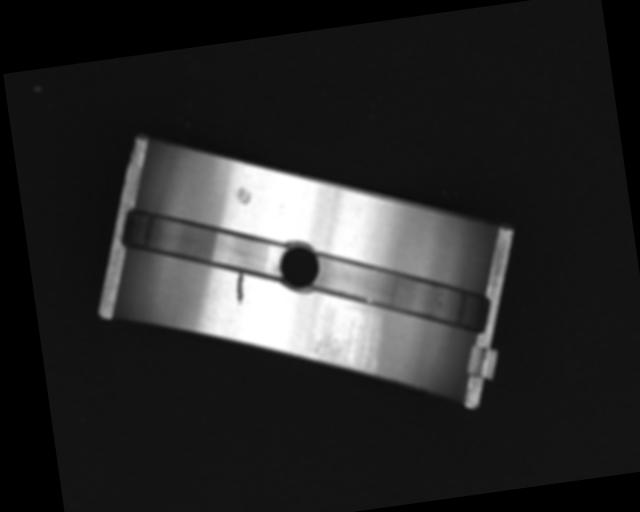bruise: (234, 185, 254, 207)
gap: (310, 234, 488, 348), (119, 192, 286, 291)
hole: (274, 242, 322, 290)
nick: (232, 270, 248, 308)
scratch: (310, 308, 384, 391)
